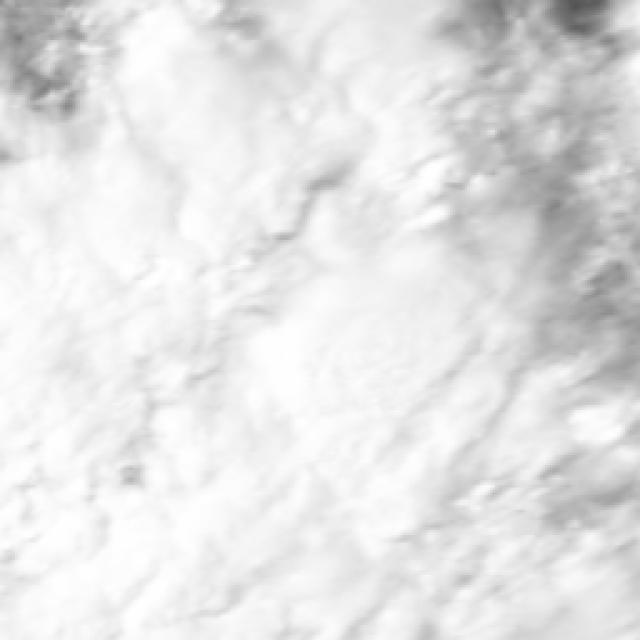CB: (70, 492, 405, 640), (297, 274, 504, 489), (3, 208, 212, 404)
